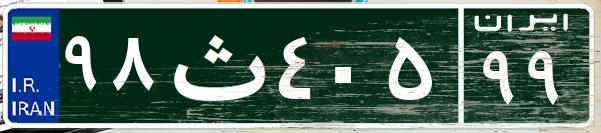0: (330, 28, 385, 110)
4: (273, 28, 330, 110)
5: (385, 28, 445, 110)
8: (110, 28, 158, 105)
9: (57, 26, 110, 107), (475, 38, 525, 113), (525, 38, 570, 115)
ث: (158, 15, 273, 115)
